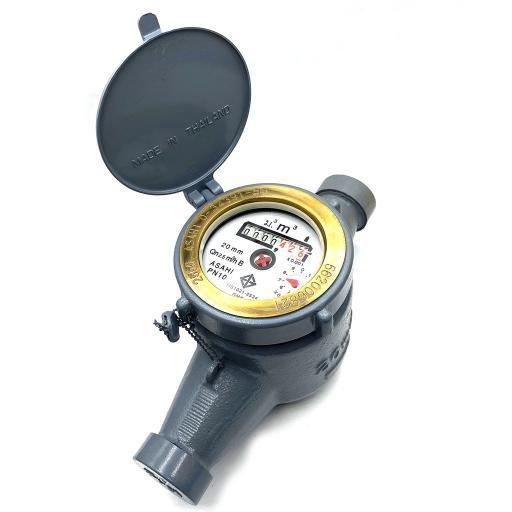0: (241, 222, 257, 240), (268, 233, 284, 249), (251, 226, 266, 242), (260, 230, 275, 246)
2: (287, 240, 302, 256)
4: (277, 237, 293, 253)
6: (293, 244, 309, 262)
border_water_meter_number: (235, 218, 313, 263)
